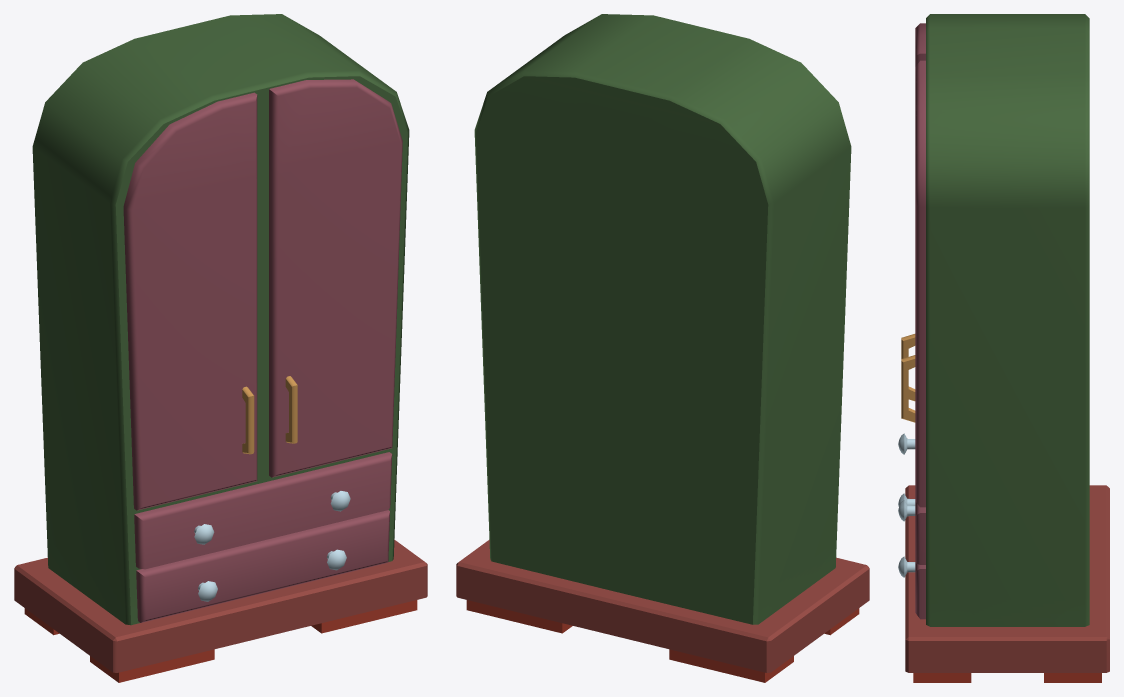
The model's file is Armadio_6.fbx.
The picture shows the model from 3 angles, left to right: view 1: azimuth 30°, elevation 25°; view 2: azimuth 150°, elevation 25°; view 3: azimuth 270°, elevation 25°; orthographic projection.
Visible parts, largest first — view 1: Armadio_6; view 2: Armadio_6; view 3: Armadio_6.
Part boxes in pixels (box(x1,y1,x2,y2)): Armadio_6: box(14, 14, 427, 682); Armadio_6: box(456, 14, 869, 682); Armadio_6: box(898, 14, 1109, 682).
Size of the model in its own units: 1.16 by 1.96 by 0.6741.
